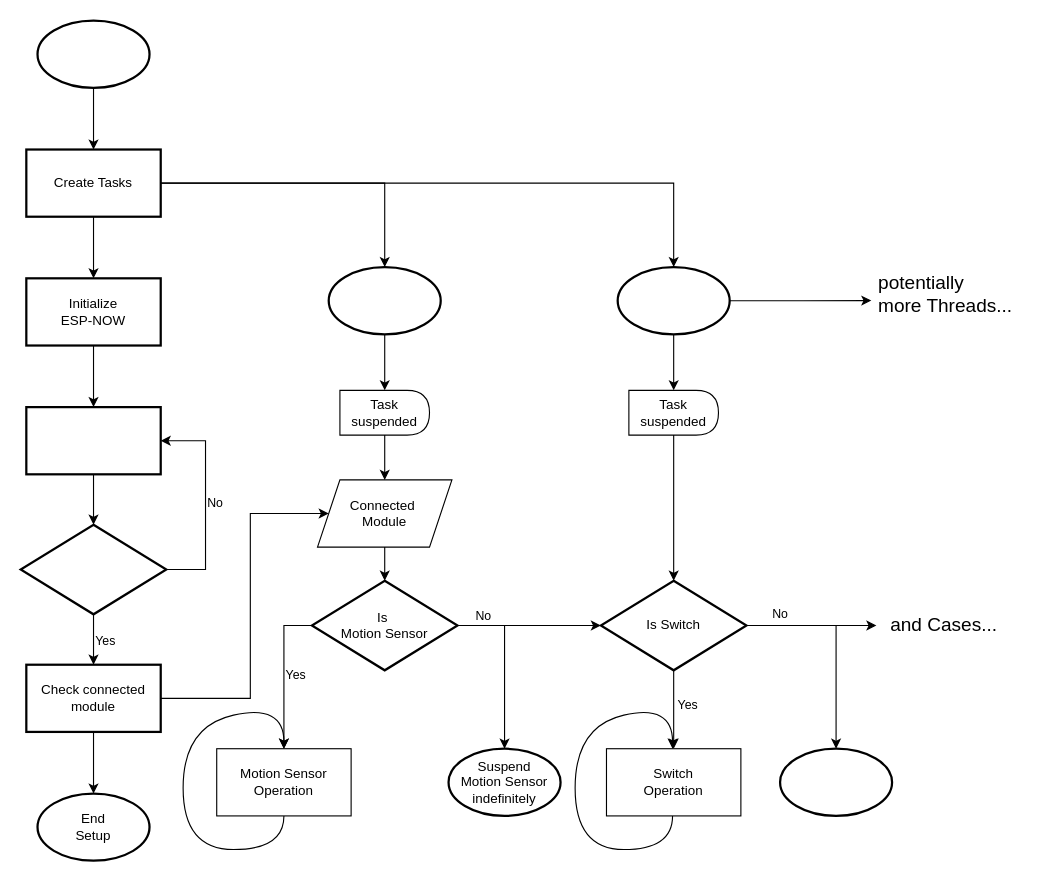
This 1063x880 diagram has some shape labels left out. The shapes that lost their labels are listed below. From the top down, each one's centre as x and y in pixels, then its label:
At pixel 93 53: "Start Setup".
At pixel 384 300: "Thread Motion Sensor".
At pixel 673 300: "Thread Switch".
At pixel 93 440: "Broadcast to identify bridge".
At pixel 93 569: "Bridge answered".
At pixel 835 781: "Suspend Switch indefinitely".
